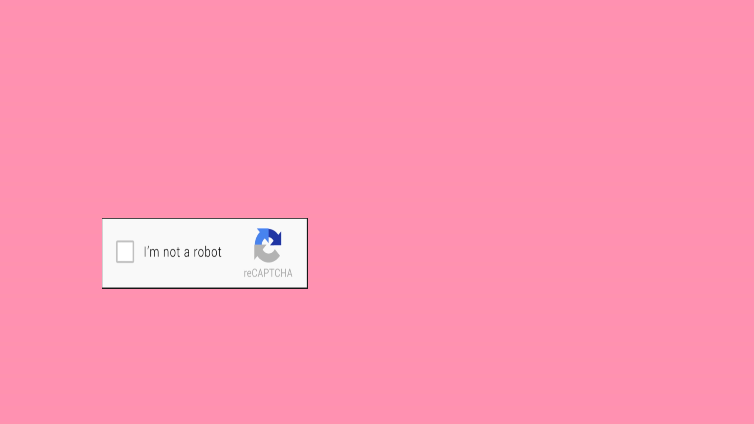captcha: (103, 218, 307, 286)
